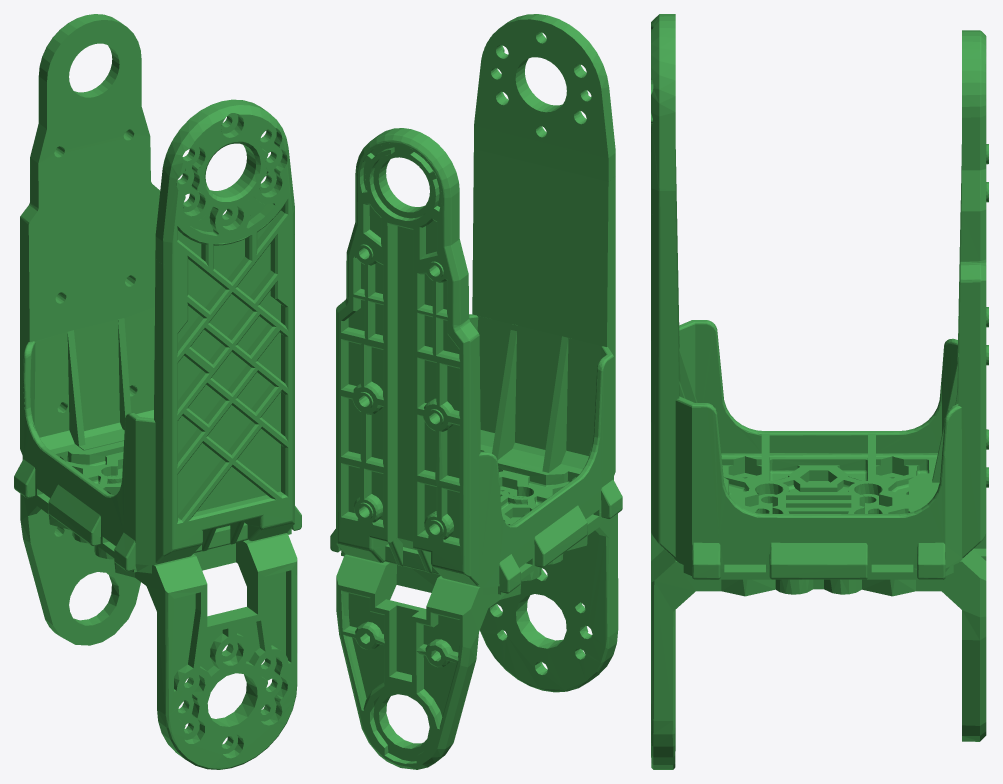
The model's file is bone12.DAE.
3 views of the same model, side by side, from view 1: azimuth 30°, elevation 25°; view 2: azimuth 150°, elevation 25°; view 3: azimuth 270°, elevation 25° (orthographic). The views are drawn at different scales.
Visible parts, largest first — view 1: DRB-0008, Imported1; view 2: DRB-0008, Imported1; view 3: DRB-0008, Imported1.
Boxes of the visible parts, <box> form: DRB-0008: <box>14,14,301,571</box>; Imported1: <box>20,491,297,769</box>; DRB-0008: <box>330,14,622,593</box>; Imported1: <box>336,512,618,769</box>; DRB-0008: <box>651,14,988,579</box>; Imported1: <box>651,483,986,769</box>.
Bounding box in the file's own units: 28 × 41.3 × 99.94.
